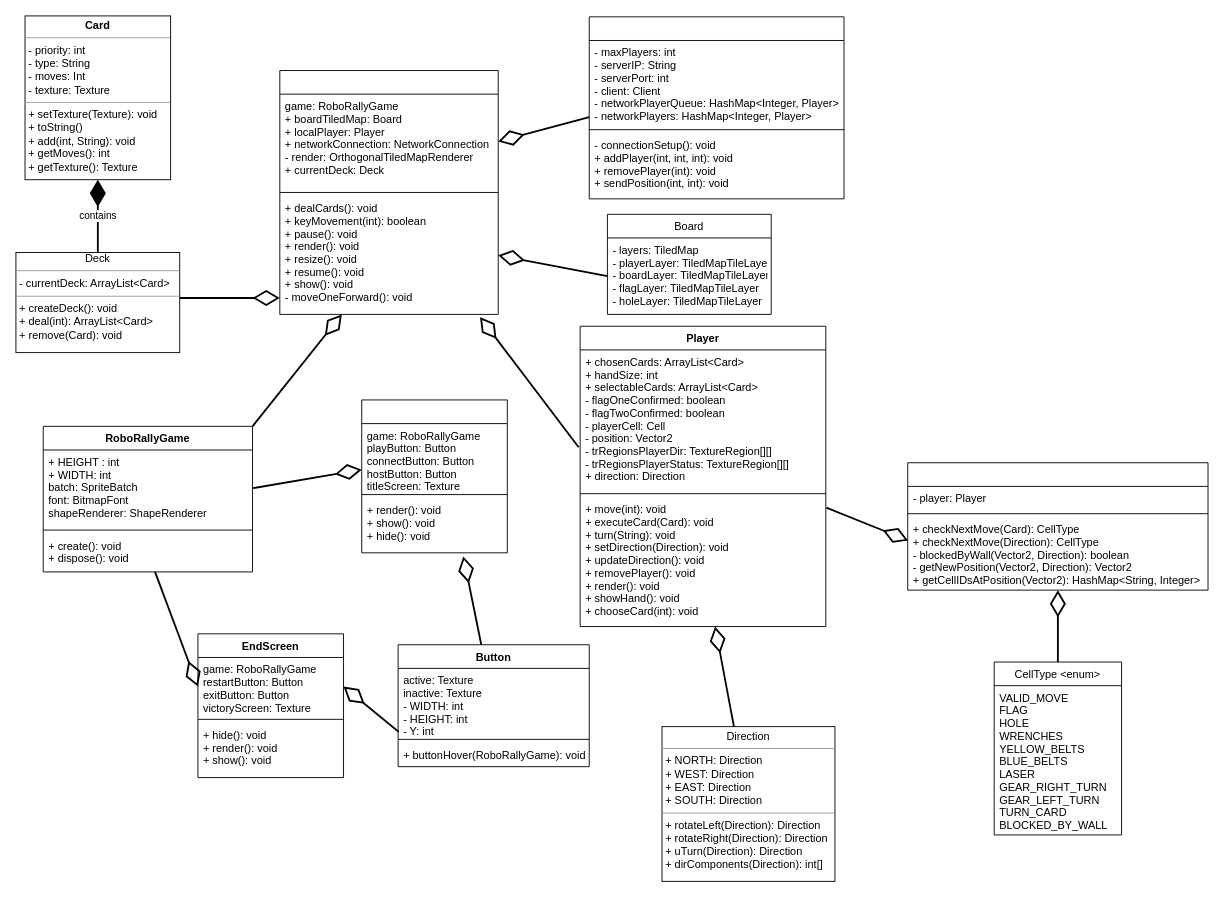
Some shapes in this 1224 by 897 pixel diagram are drawn without their labels. The box of each missing label's shape, as (x1, y1, x2, y2) in pixels:
CellChecker: (907, 462, 1208, 590)
GameScreen: (279, 70, 498, 314)
MenuScreen: (361, 399, 507, 553)
NetworkConnection: (588, 16, 844, 199)
